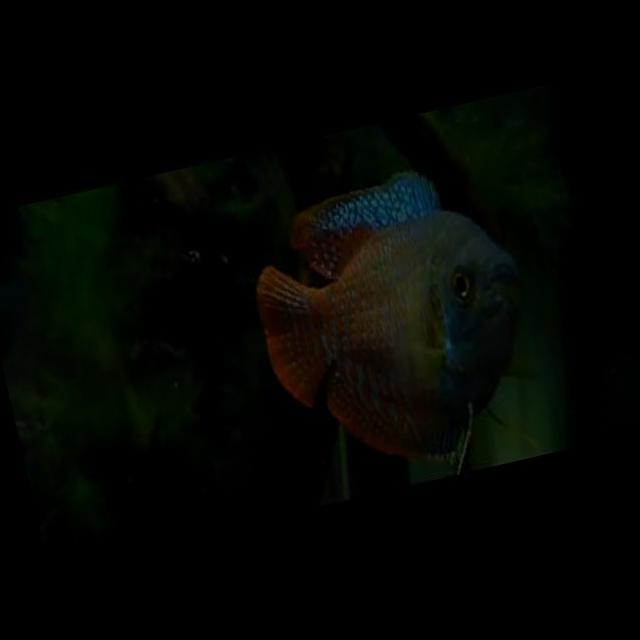Gourami: (230, 151, 556, 487)
